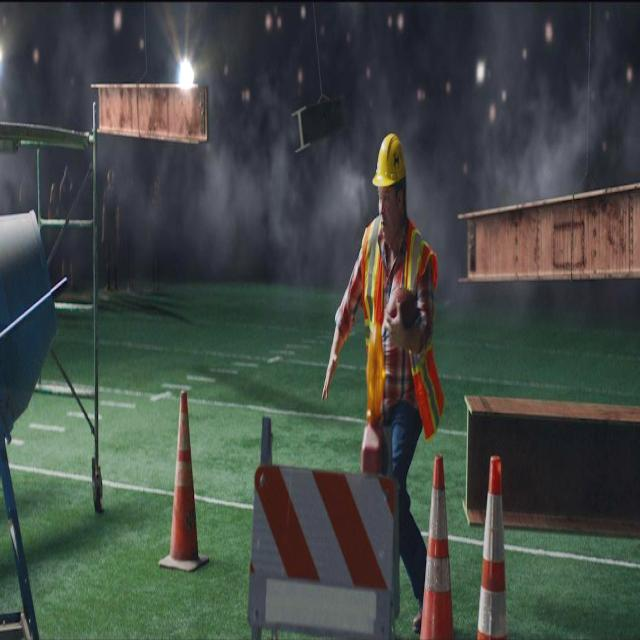face_nomask: (376, 185, 406, 239)
hand_noglove: (316, 324, 339, 404), (378, 303, 410, 359)
head_helmet: (371, 134, 410, 188)
person: (348, 134, 442, 616)
vest: (354, 220, 439, 405)
